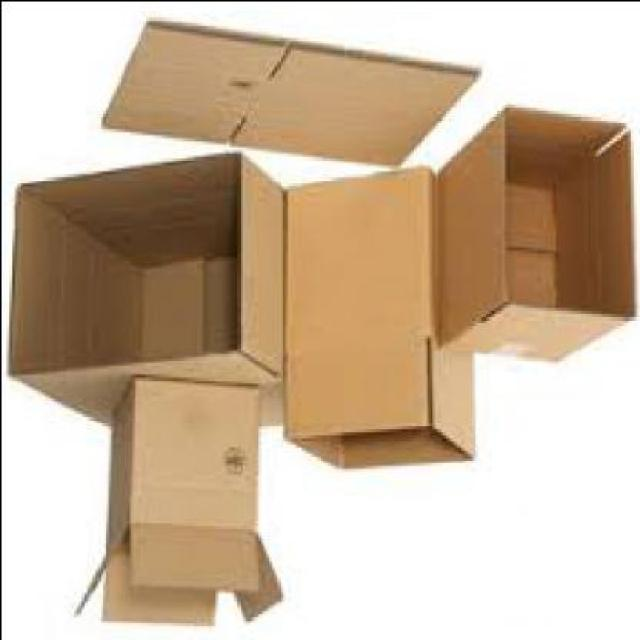CARDBOARD: (2, 157, 280, 431), (276, 164, 472, 470), (98, 21, 474, 167), (72, 379, 278, 632), (432, 106, 632, 365)
